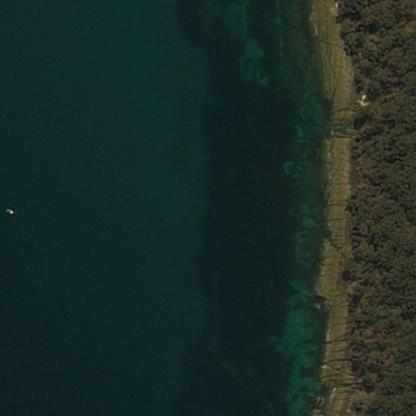ship: (6, 208, 12, 214)
